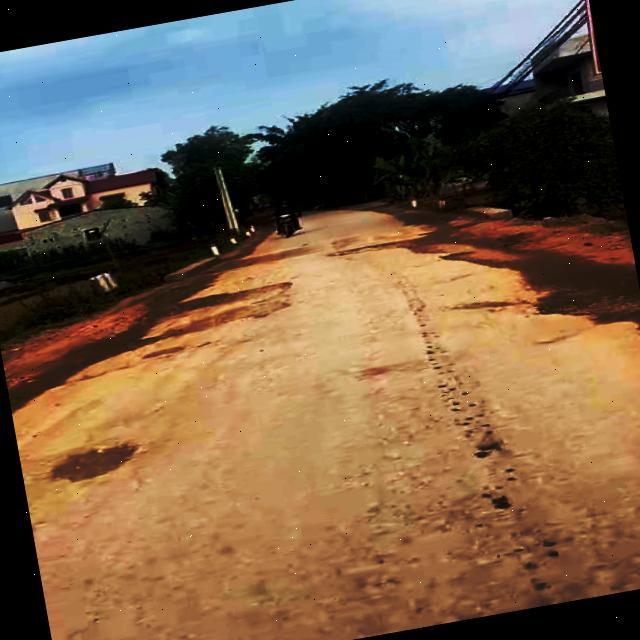pothole: (42, 431, 156, 490)
